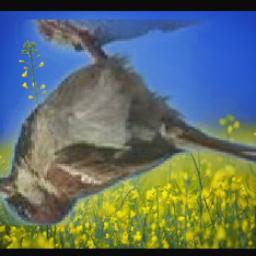Sparrow: (0, 19, 256, 225)
